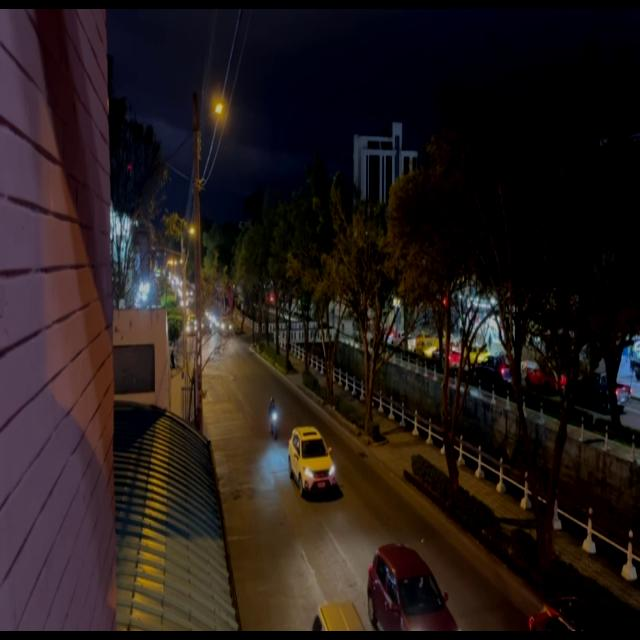MOTORCYCLE: (268, 392, 281, 441)
